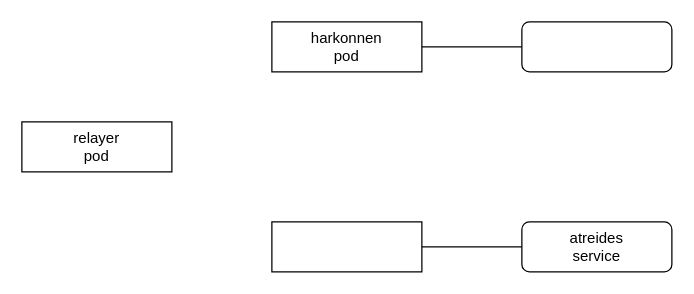
The diagram is 694 pixels wide and 294 high, and some of its shapes have lost their labels. The shapes that lost their labels are listed below. From the top down, each one's box as (x1, y1, x2, y2) in pixels, then its label:
(521, 21, 672, 72): harkonnen service
(271, 221, 422, 272): atreides pod
